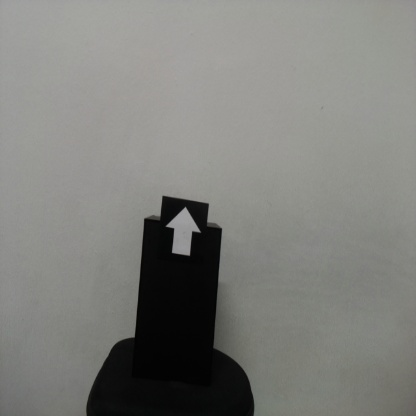id_1: (163, 199, 207, 271)
